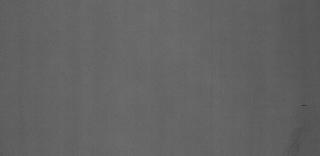inclusion: (298, 100, 312, 110)
water spot: (278, 118, 310, 154)
